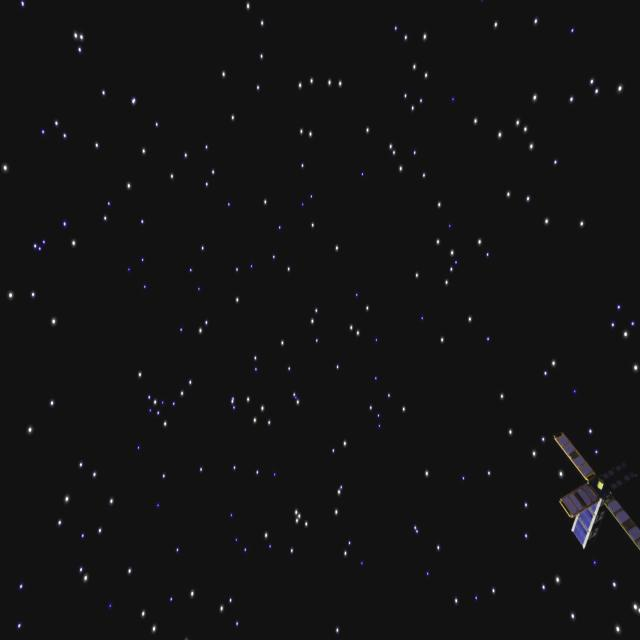medium_debris: (540, 433, 640, 567)
